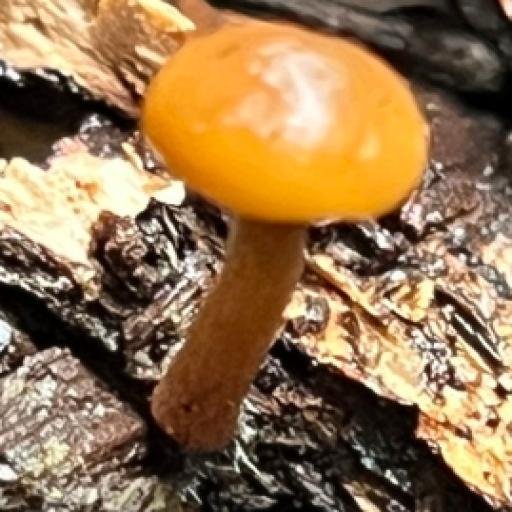mushroom: (126, 5, 441, 406)
